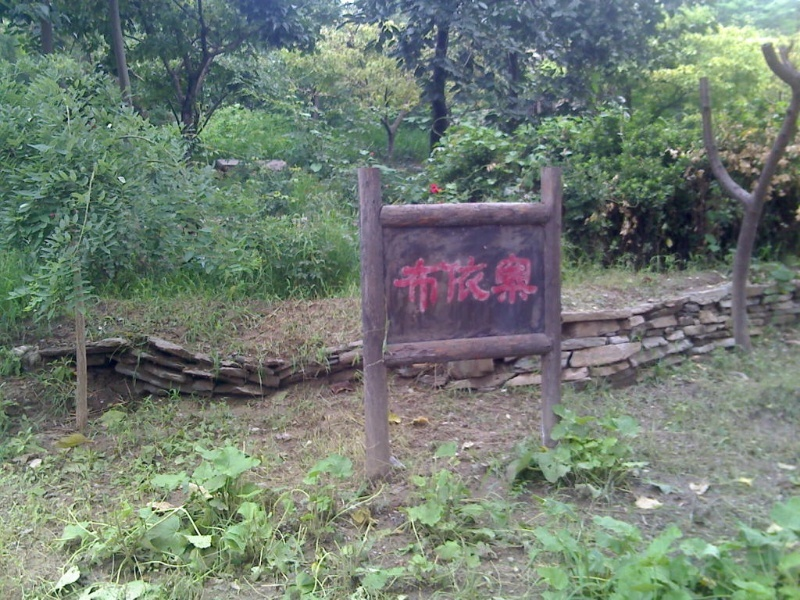text: (401, 253, 416, 316), (417, 253, 432, 316), (433, 253, 448, 316), (449, 253, 464, 316), (465, 253, 480, 316), (481, 253, 496, 316), (497, 253, 512, 316), (513, 253, 528, 316), (529, 253, 540, 316), (396, 253, 400, 316)
